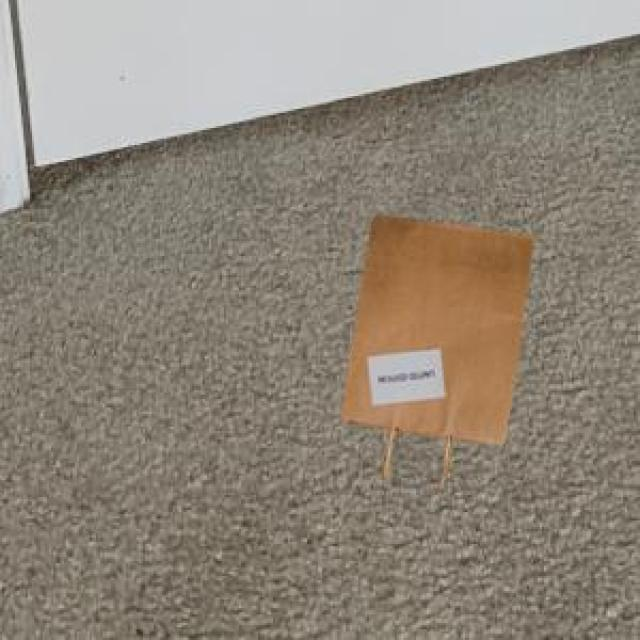paper: (337, 211, 531, 480)
